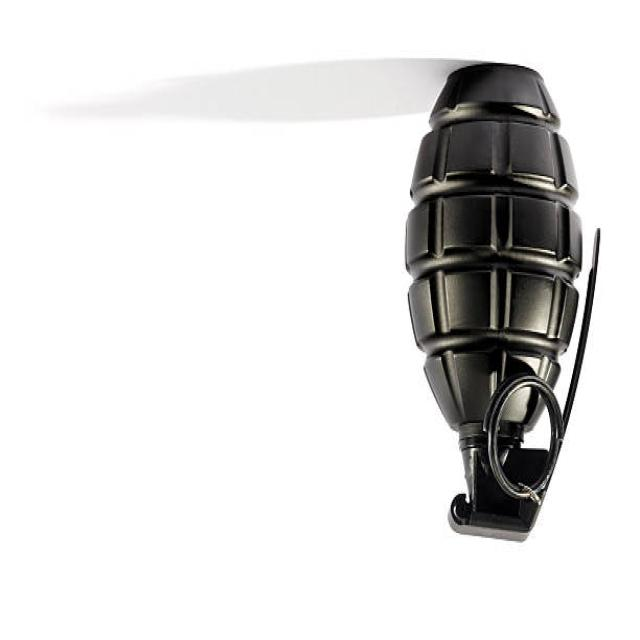grenade: (397, 56, 611, 554)
